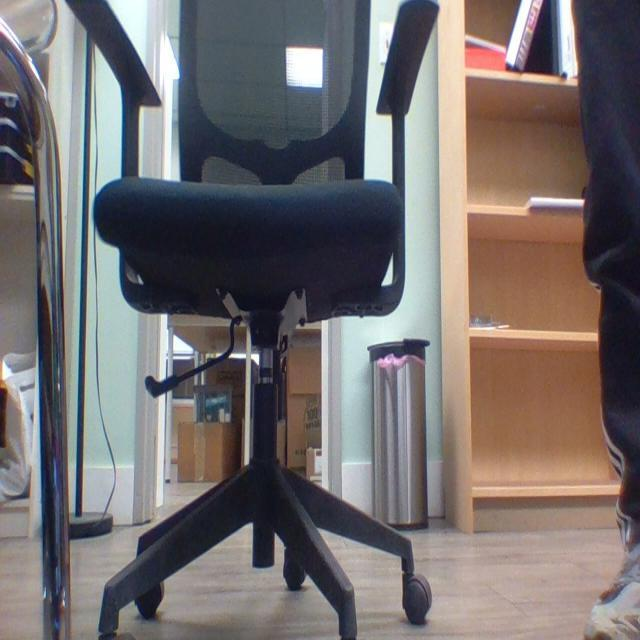chair: (61, 1, 443, 639)
